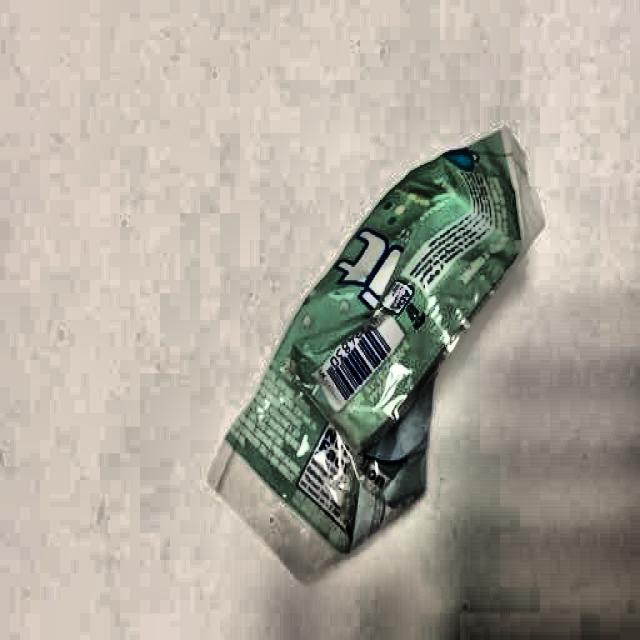trash: (208, 128, 536, 572)
